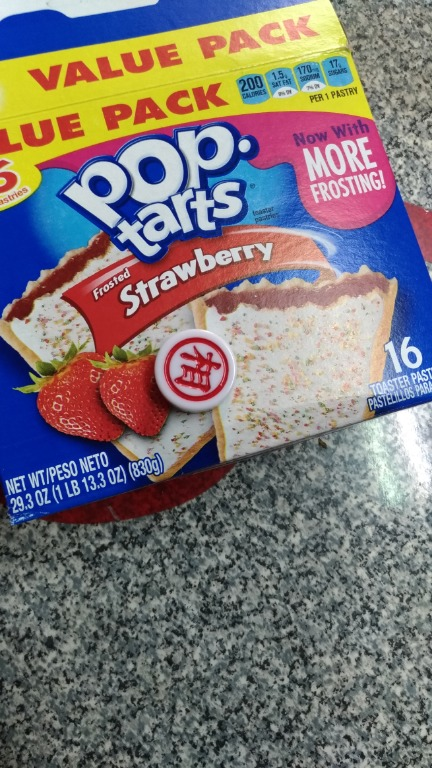r-elephant: (148, 323, 265, 426)
